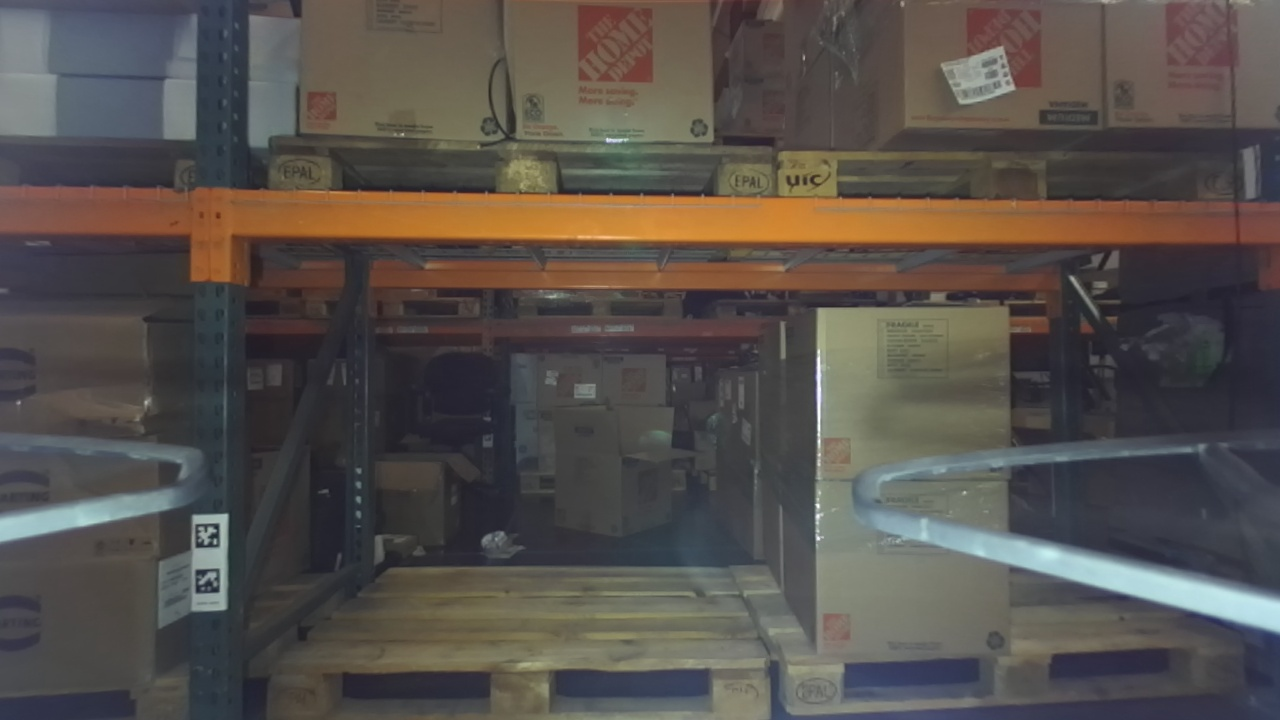box: (775, 273, 1038, 497), (789, 462, 1036, 688), (284, 6, 550, 178), (864, 1, 1120, 164), (491, 2, 734, 163), (1094, 5, 1280, 158)
